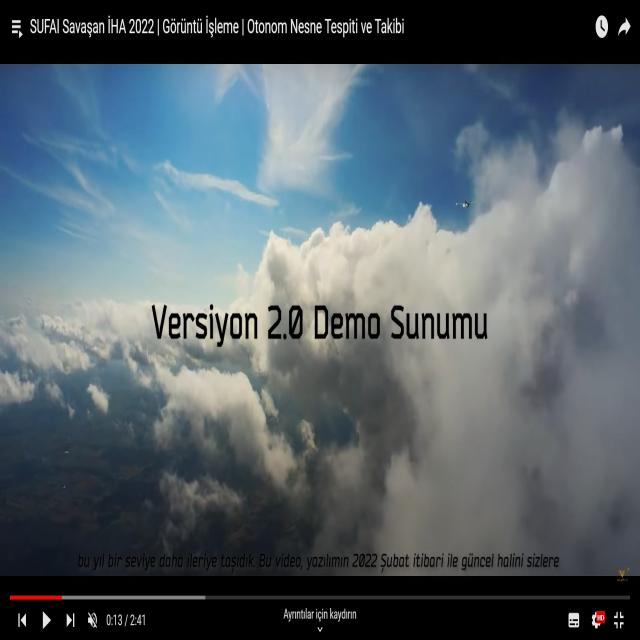iha: (454, 192, 479, 205)
